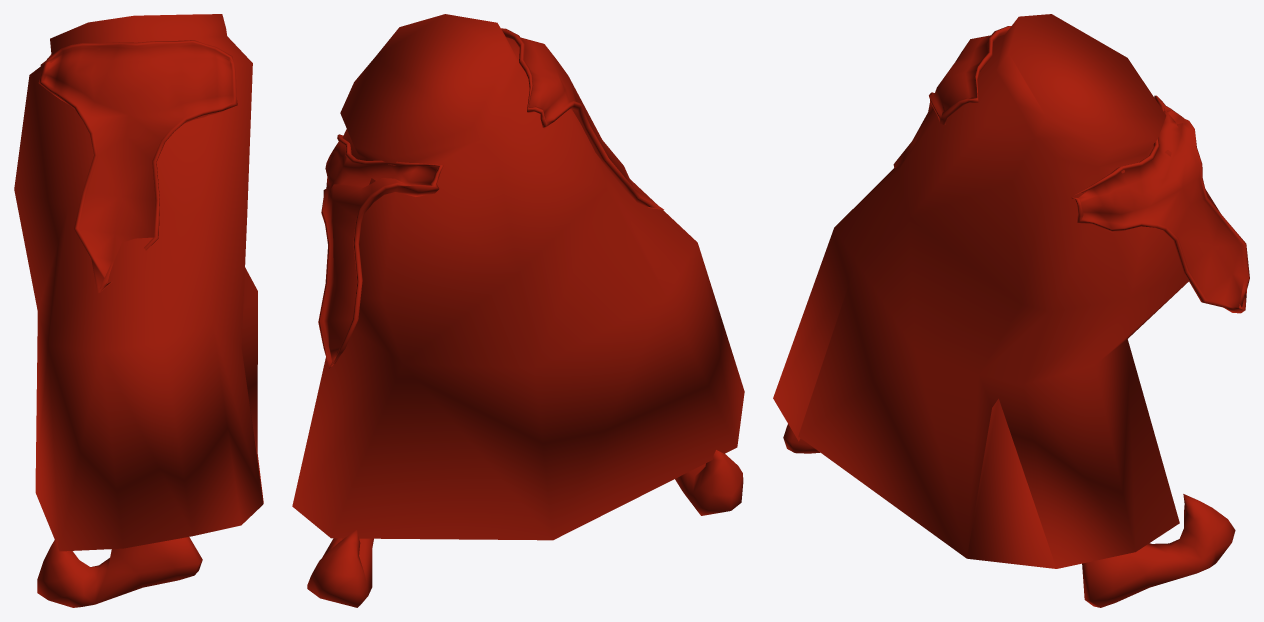
The model's file is bot_000051.obj.
3 views of the same model, side by side, from view 1: azimuth 30°, elevation 25°; view 2: azimuth 150°, elevation 25°; view 3: azimuth 270°, elevation 25° (orthographic). The views are drawn at different scales.
Visible parts, largest first — view 1: LowPoly_Warlock.004_Plane.004; view 2: LowPoly_Warlock.004_Plane.004; view 3: LowPoly_Warlock.004_Plane.004.
Boxes of the visible parts, bbox=[...] form: LowPoly_Warlock.004_Plane.004: bbox=[14, 14, 263, 607]; LowPoly_Warlock.004_Plane.004: bbox=[292, 14, 744, 607]; LowPoly_Warlock.004_Plane.004: bbox=[773, 14, 1249, 607].
Size of the model in its own units: 0.6731 by 1.14 by 0.9095.
